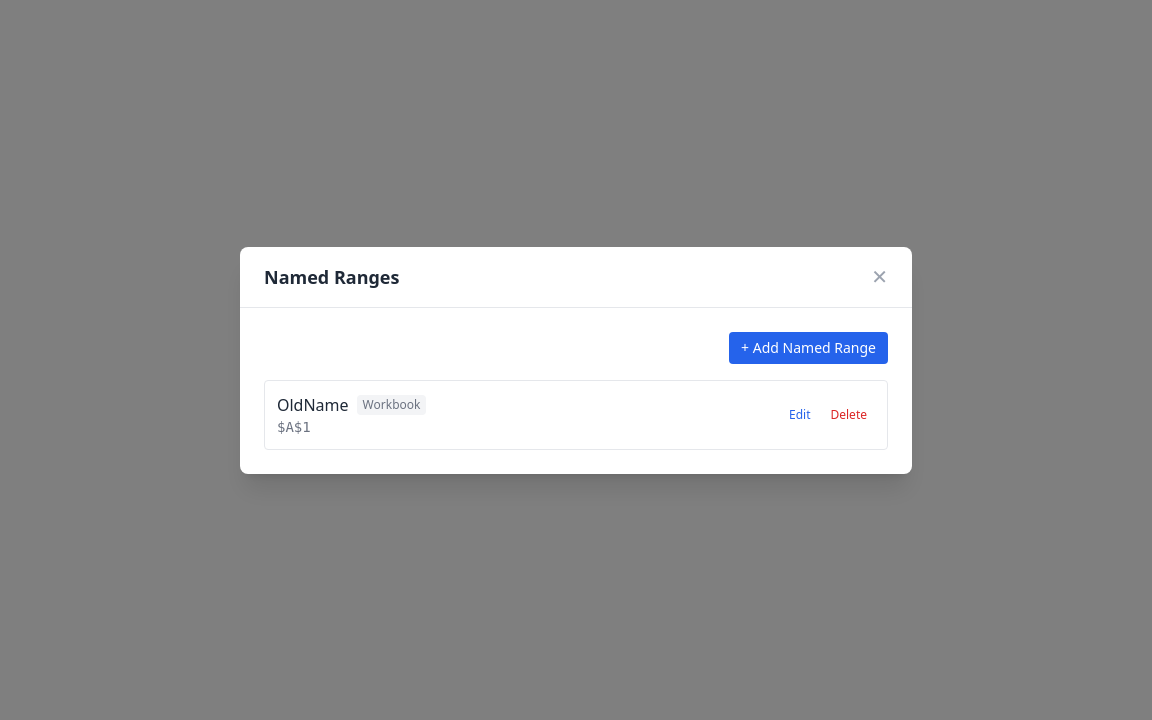
NamedRangesModal › edits an existing named range
Later steps or results of the test are not shown.
Click Edit on the existing range.
Click the button with aria-label "Edit OldName": x=800, y=414 [781, 402, 818, 426]
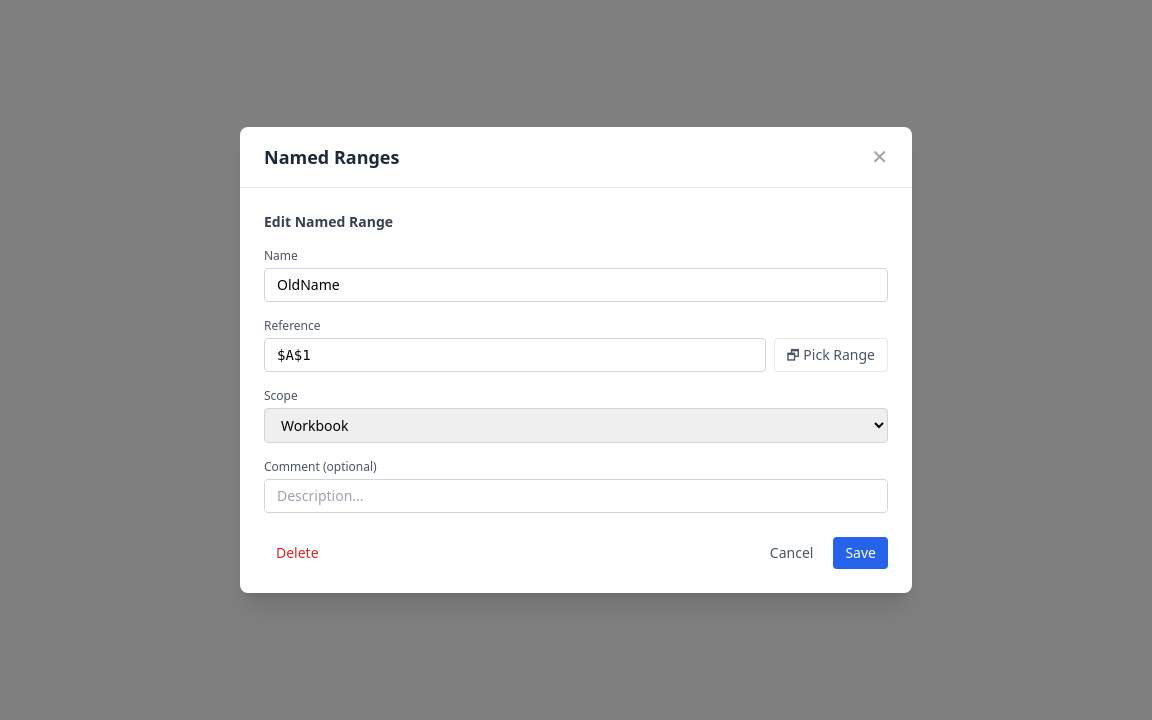
Expected: the field with test id "named-range-name-input" holds "OldName", [264, 268, 888, 302]
